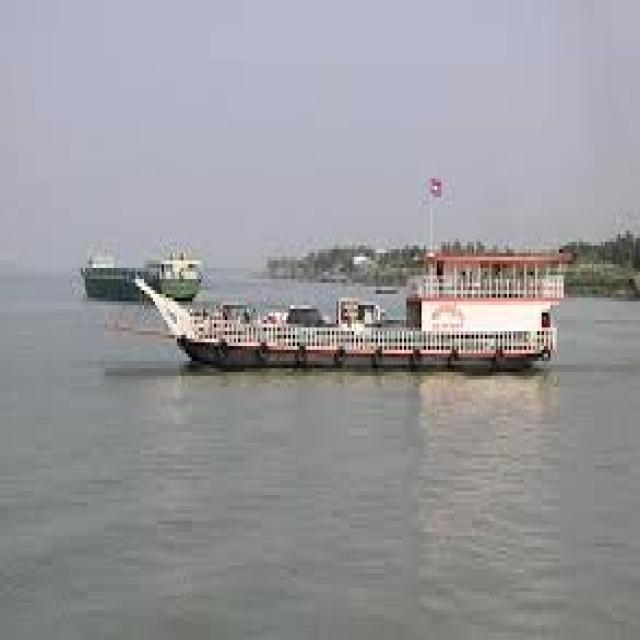cargoship: (152, 229, 573, 379), (78, 219, 189, 308)
